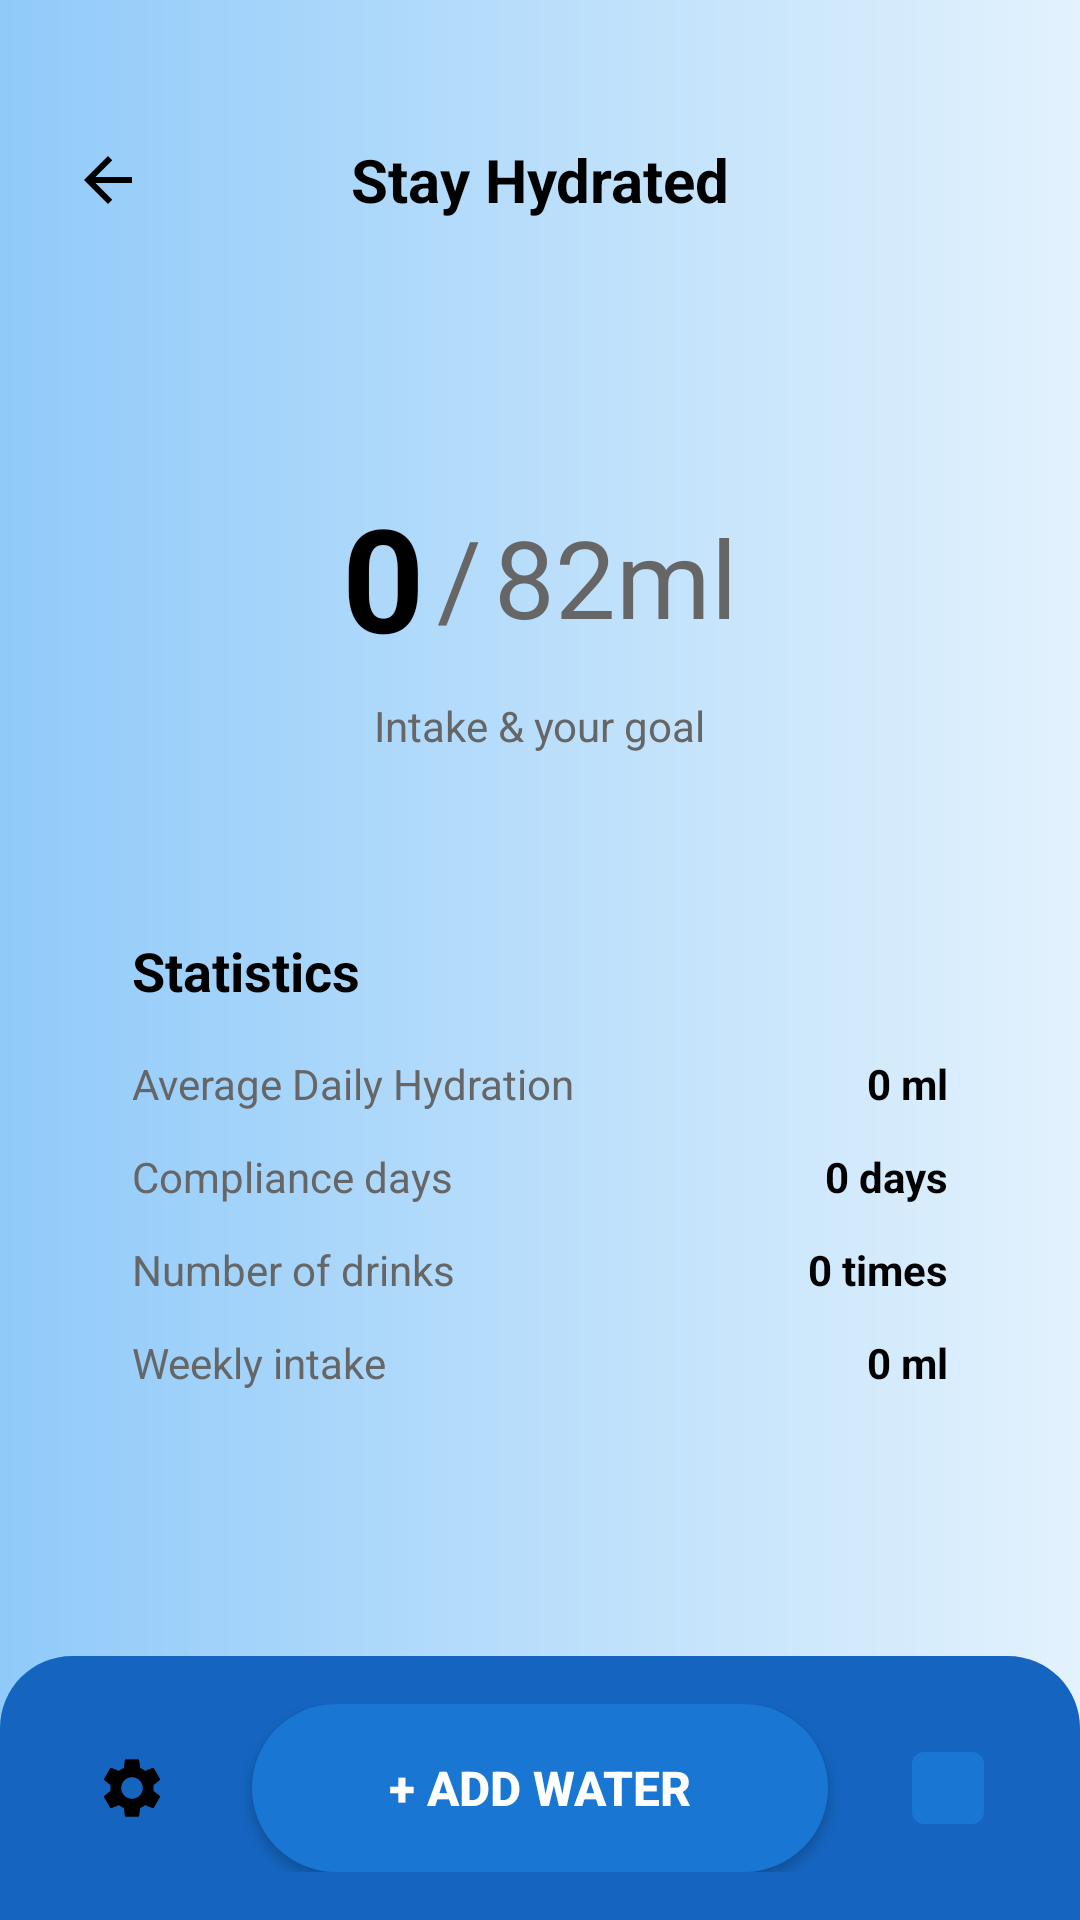

Named icons in this screenshot (1080*1920) and their centers, (x,y):
Back: (108,180)
Settings: (132,1788)
